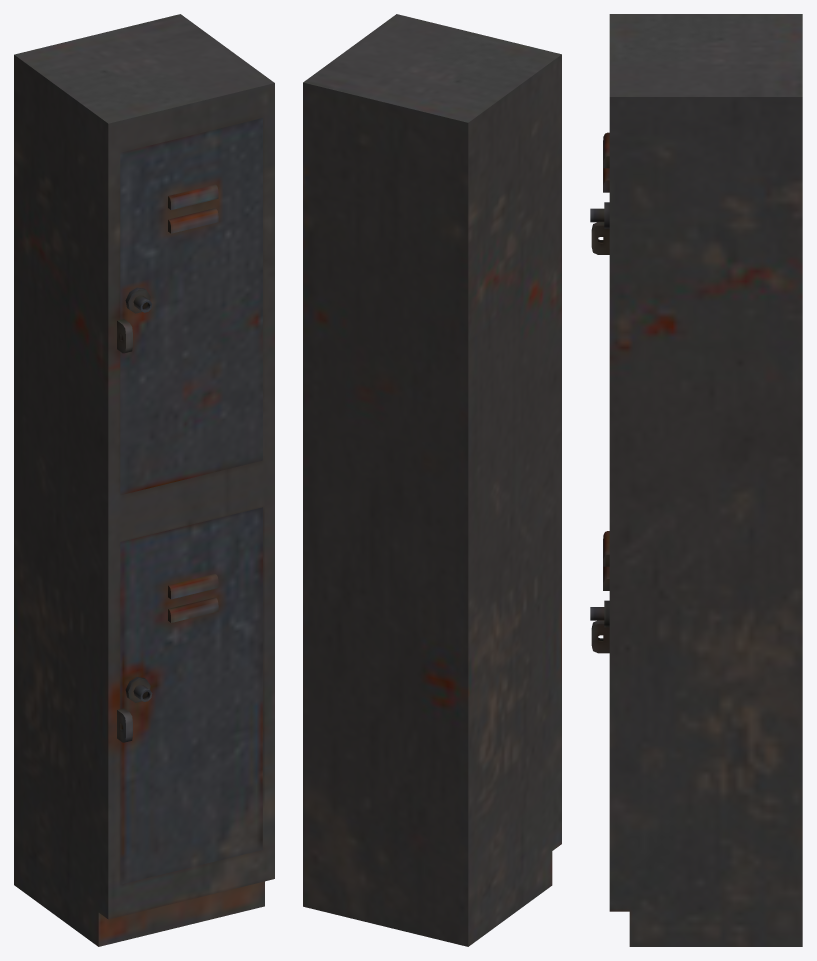
Rendered from SingleLocker.FBX.
The picture shows the model from 3 angles, left to right: view 1: azimuth 30°, elevation 25°; view 2: azimuth 150°, elevation 25°; view 3: azimuth 270°, elevation 25°; orthographic projection. The views are drawn at different scales.
Visible parts, largest first — view 1: SingleLocker; view 2: SingleLocker; view 3: SingleLocker.
Boxes of the visible parts, x1,y1,x2,y2 form: SingleLocker: [14, 14, 274, 946]; SingleLocker: [303, 14, 561, 946]; SingleLocker: [590, 14, 802, 946].
Size of the model in its own units: 41.63 by 198 by 44.96.
